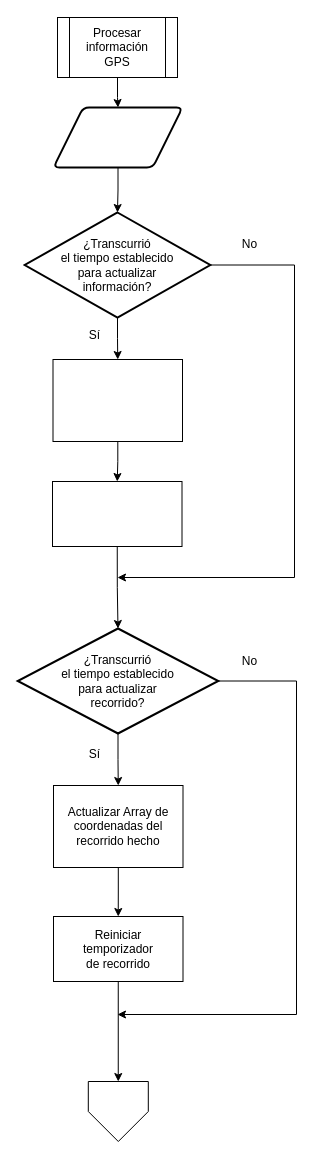
Image size: 323x1159. Some labels were removed from this diagram. Here are the shapes that lost their labels. From the top down, the box of each, then its label:
(52, 106, 183, 168): Temporizador lectura GPS
(52, 358, 182, 442): Actualizar variables globales con la información del GPS
(52, 480, 182, 546): Reiniciar temporizador GPS
